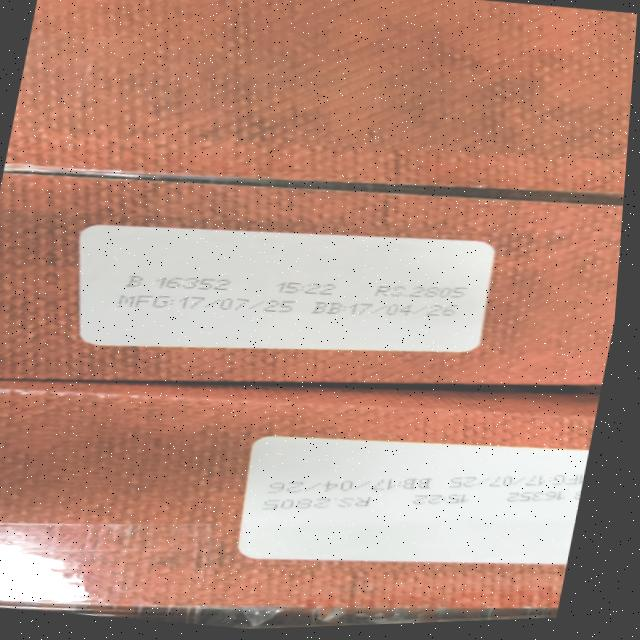BB: (308, 289, 466, 335)
Batch: (118, 265, 241, 304)
MFG: (108, 277, 303, 329)
RS: (370, 277, 474, 307)
TimeStamp: (271, 277, 356, 306)
